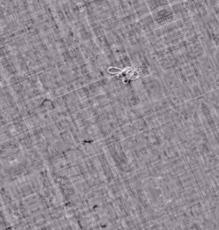snag: (103, 57, 144, 93)
